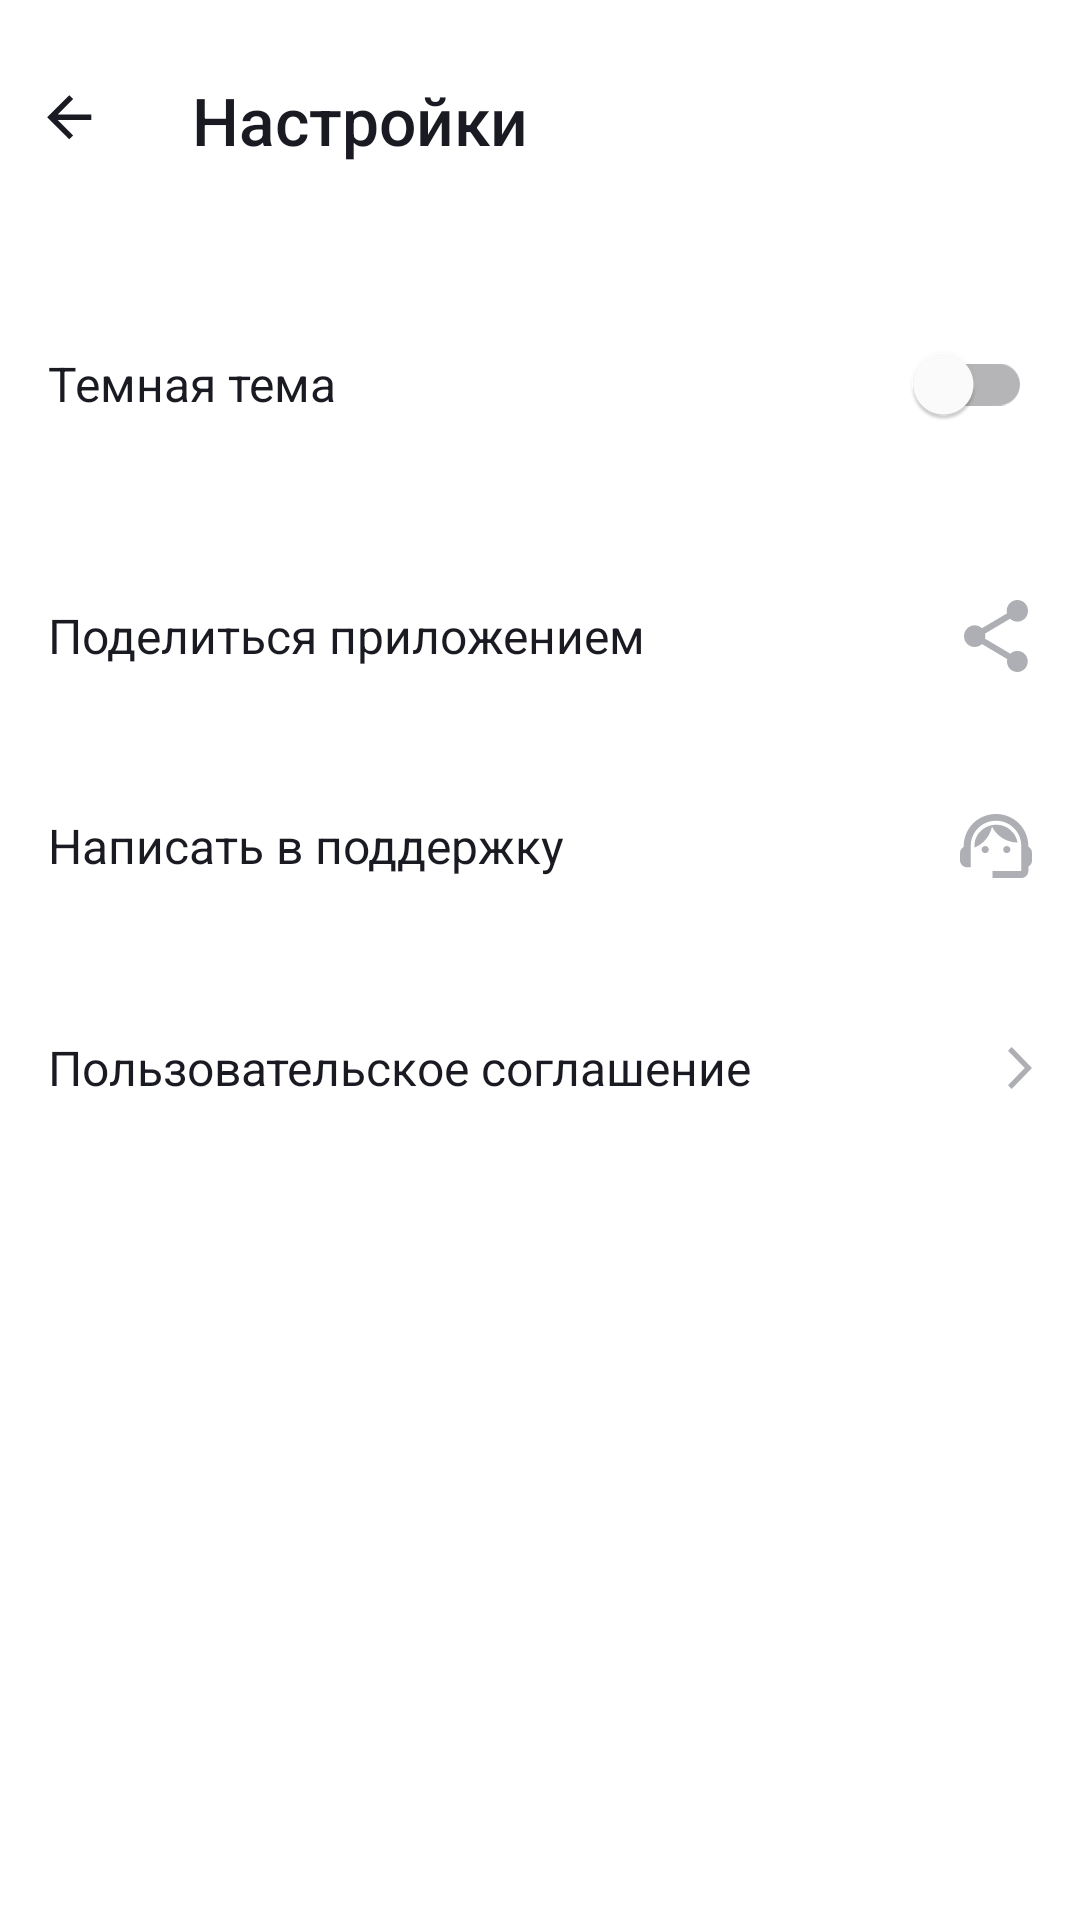

Where to tap for icons on this 1080px x 1920px app screen, as (x=x, y=y):
Назад: (x=69, y=117)
Перейти: (x=1020, y=1068)
Поддержка: (x=996, y=846)
